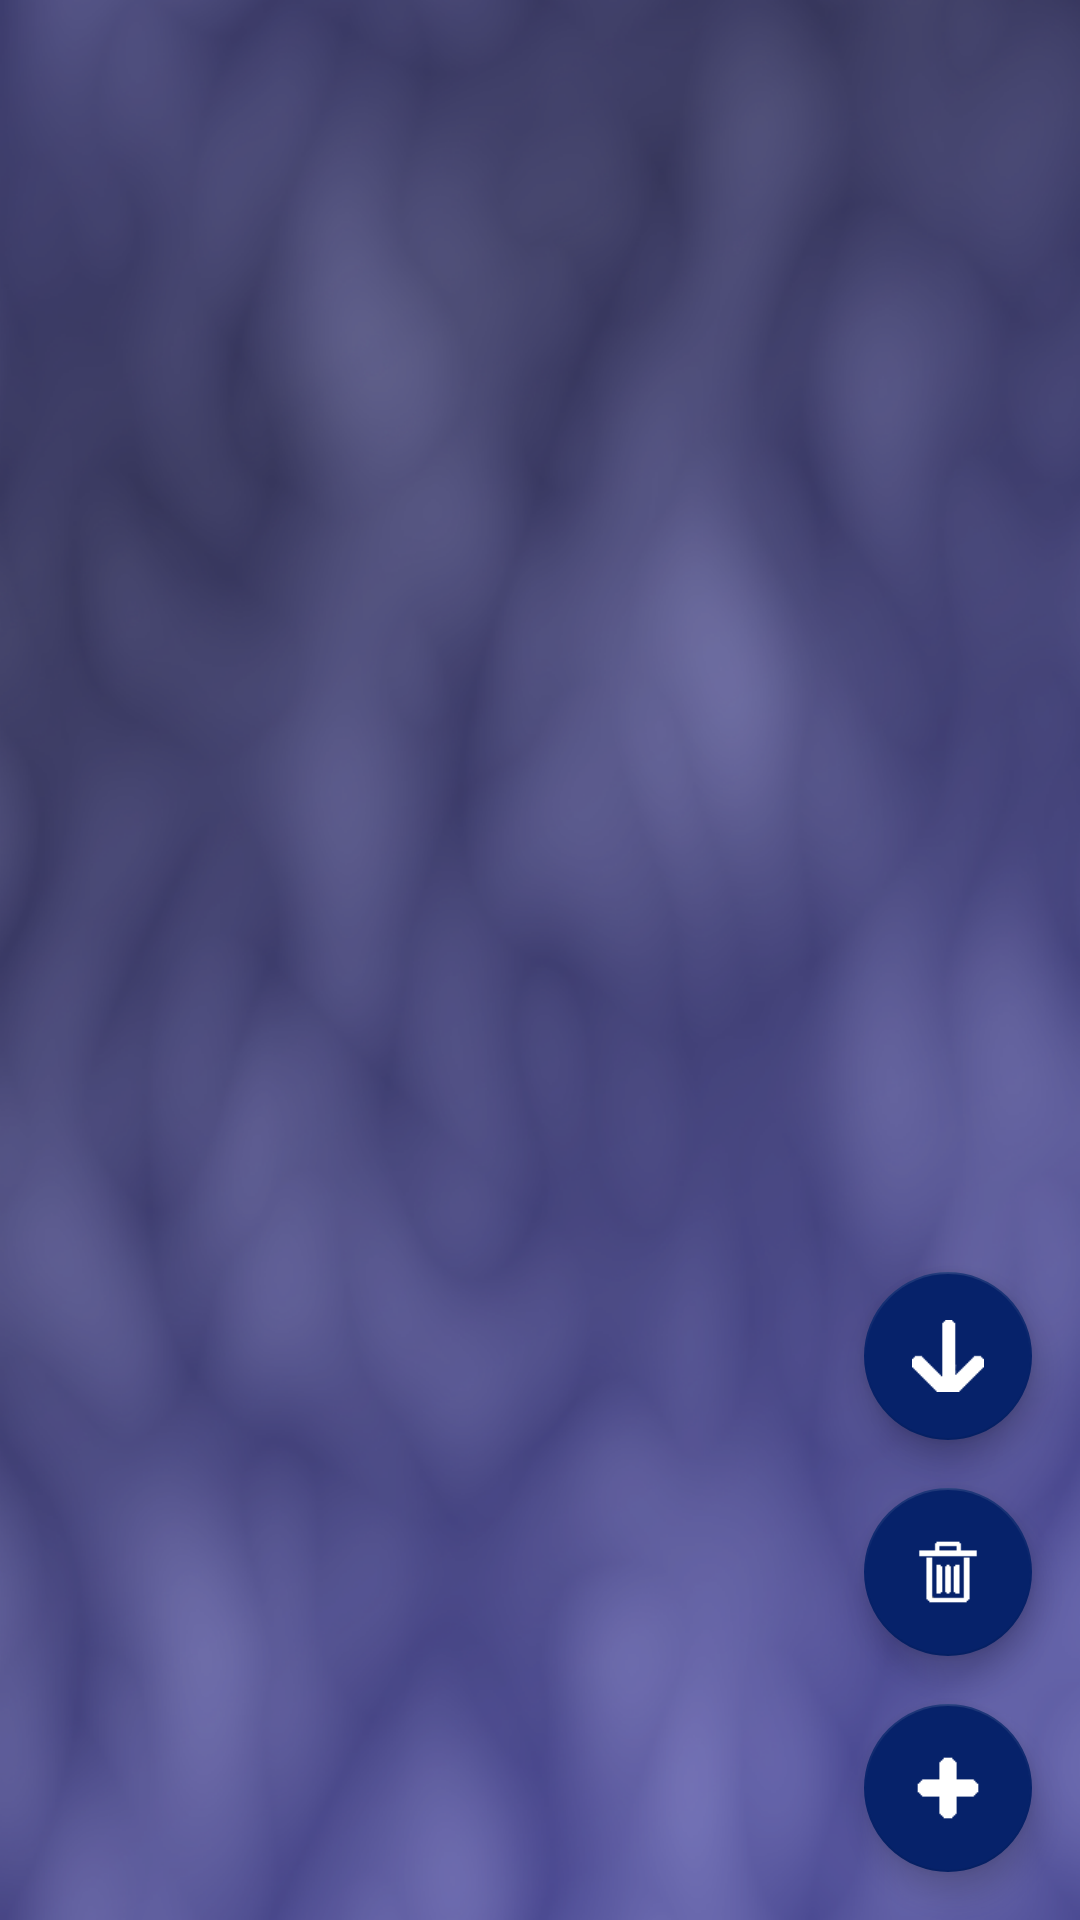

Named icons in this screenshot (1080px x 1920px) and their bounding boxes, bbox=(x1, y1, x2, y2):
add: bbox=(864, 1704, 1032, 1872)
delete: bbox=(864, 1488, 1032, 1656)
download: bbox=(864, 1272, 1032, 1440)
